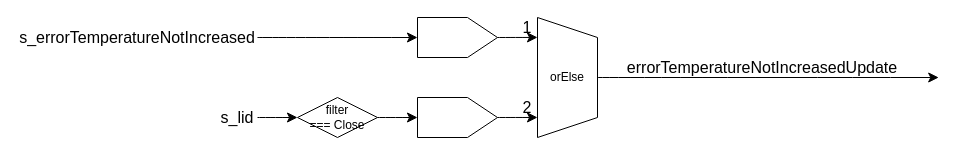
Image size: 955x155. Some labels were removed from this diagram. The shapes that lost their labels are listed below. From the top down, each one's centre as x and y in pixels, then its label:
At pixel 457 37: "map to true".
At pixel 457 117: "map to false".
